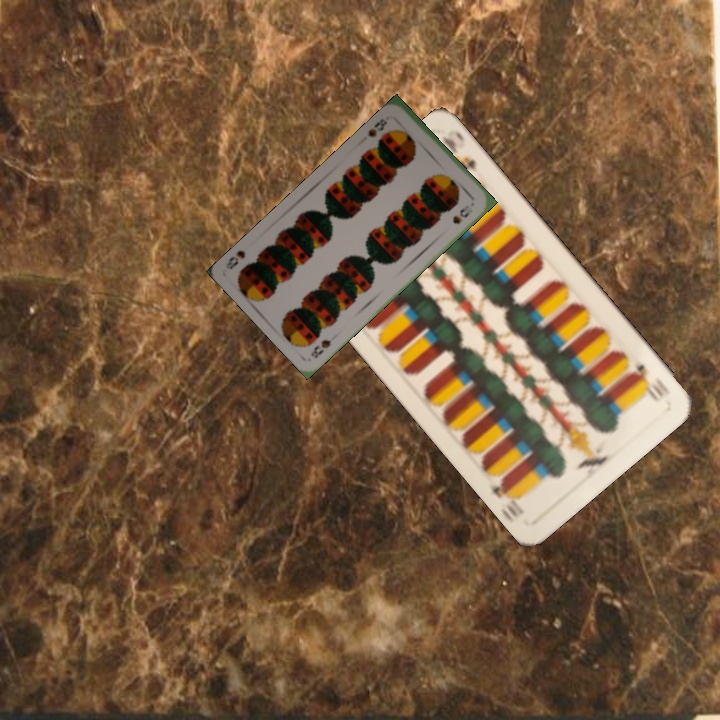E10: (627, 360, 666, 405)
S8: (364, 114, 390, 140), (307, 336, 334, 361)
